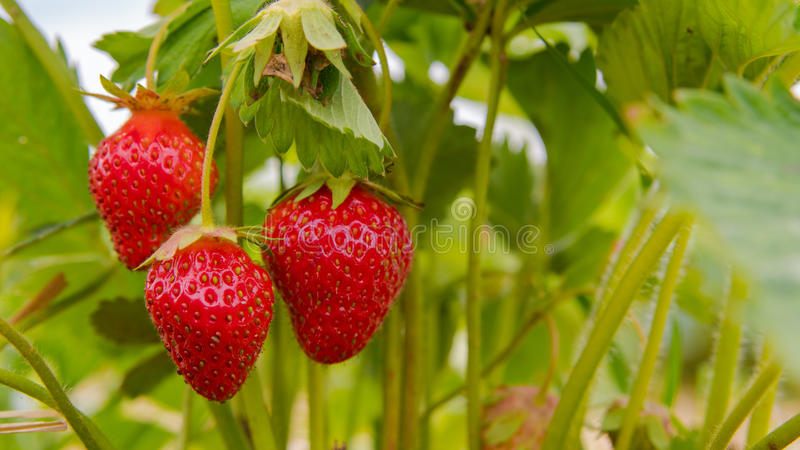ripe: (265, 171, 410, 372), (145, 227, 275, 404), (89, 101, 223, 265)
